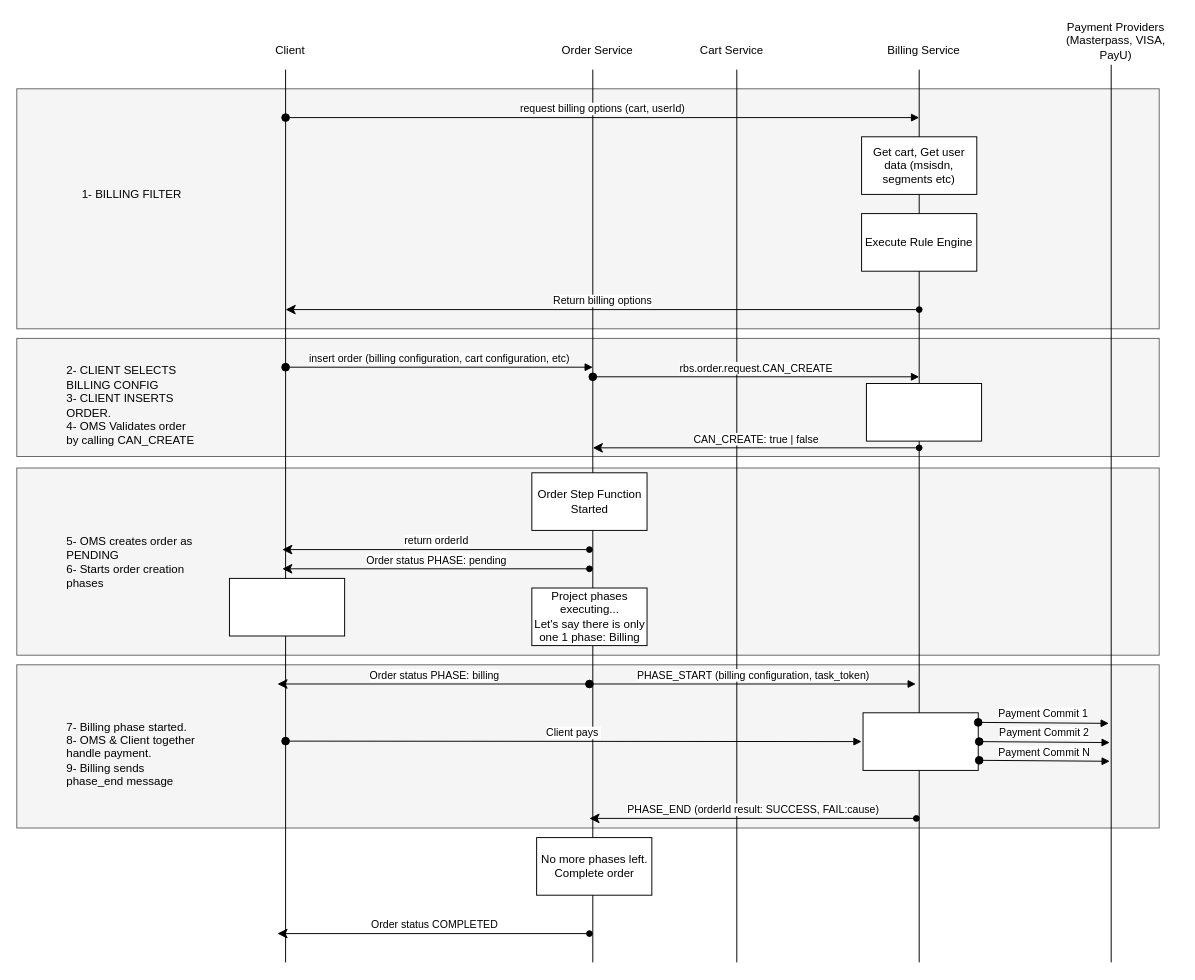
Some shapes in this 1195 by 980 pixel diagram are drawn without their labels. Each missing label, with the centre of its shape:
"Billing Options Validated" goes at [923,412].
"Billing phase." goes at [920,741].
"Client starts polling orderId" goes at [286,606].
